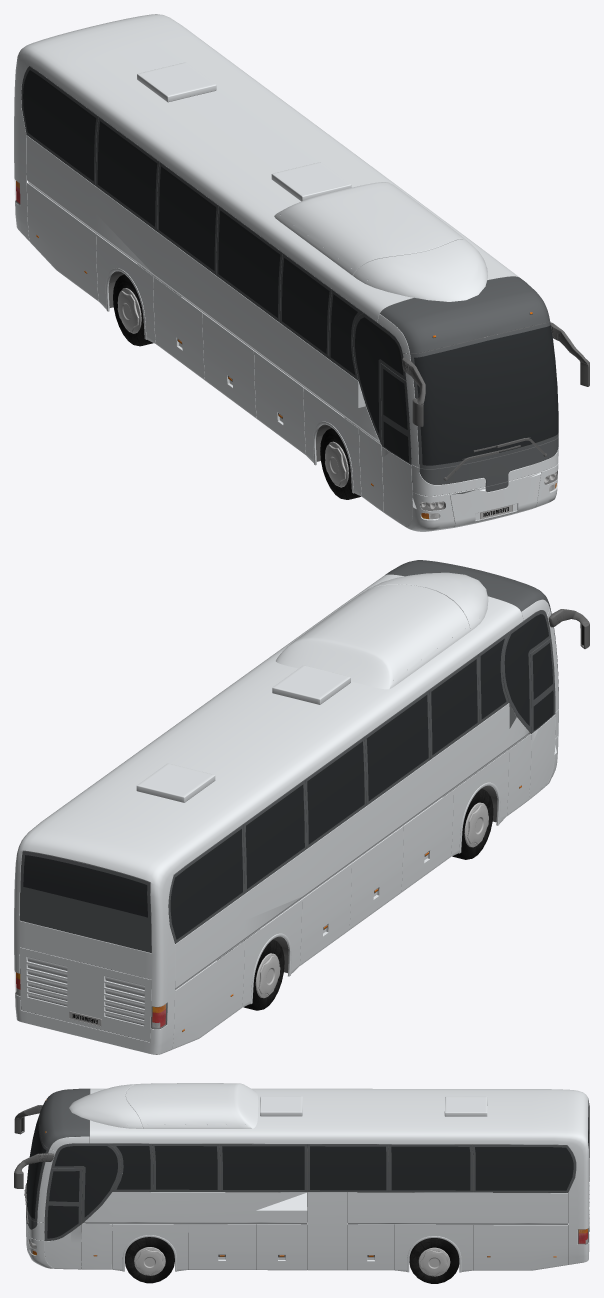
The model's file is vehicle-bus-1.gltf.
3 views of the same model, one above another, from view 1: azimuth 30°, elevation 25°; view 2: azimuth 150°, elevation 25°; view 3: azimuth 270°, elevation 25° (orthographic). The views are drawn at different scales.
Parts seen in each view (by area): view 1: 大巴车-mat_Archmodels55_15_carpaint, 大巴车-mat_Archmodels55_15_glass, 大巴车-Archmodels55_15_glass_black (×2), 大巴车-Archmodels55_15_black_plastic (×2), 大巴车-Archmodels55_15_tyre, 大巴车-mat_Archmodels55_15_rims; view 2: 大巴车-mat_Archmodels55_15_carpaint, 大巴车-mat_Archmodels55_15_glass, 大巴车-Archmodels55_15_glass_black, 大巴车-Archmodels55_15_tyre, 大巴车-mat_Archmodels55_15_rims, 大巴车-Archmodels55_15_black_plastic; view 3: 大巴车-mat_Archmodels55_15_carpaint, 大巴车-mat_Archmodels55_15_glass, 大巴车-Archmodels55_15_glass_black (×2), 大巴车-Archmodels55_15_tyre, 大巴车-mat_Archmodels55_15_rims, 大巴车-Archmodels55_15_black_plastic.
Boxes of the visible parts, bbox=[...] form: 大巴车-mat_Archmodels55_15_carpaint: bbox=[14, 14, 558, 531]; 大巴车-mat_Archmodels55_15_glass: bbox=[23, 70, 558, 465]; 大巴车-Archmodels55_15_glass_black (×2): bbox=[21, 66, 589, 491]; 大巴车-Archmodels55_15_black_plastic (×2): bbox=[16, 66, 562, 526]; 大巴车-Archmodels55_15_tyre: bbox=[113, 270, 360, 499]; 大巴车-mat_Archmodels55_15_rims: bbox=[117, 288, 348, 487]; 大巴车-mat_Archmodels55_15_carpaint: bbox=[14, 572, 558, 1054]; 大巴车-mat_Archmodels55_15_glass: bbox=[23, 614, 553, 939]; 大巴车-Archmodels55_15_glass_black: bbox=[20, 560, 558, 952]; 大巴车-Archmodels55_15_tyre: bbox=[217, 788, 493, 1010]; 大巴车-mat_Archmodels55_15_rims: bbox=[255, 802, 488, 998]; 大巴车-Archmodels55_15_black_plastic: bbox=[16, 574, 551, 1042]; 大巴车-mat_Archmodels55_15_carpaint: bbox=[26, 1083, 589, 1272]; 大巴车-mat_Archmodels55_15_glass: bbox=[26, 1104, 589, 1238]; 大巴车-Archmodels55_15_glass_black (×2): bbox=[14, 1088, 589, 1240]; 大巴车-Archmodels55_15_tyre: bbox=[125, 1237, 459, 1283]; 大巴车-mat_Archmodels55_15_rims: bbox=[134, 1247, 450, 1276]; 大巴车-Archmodels55_15_black_plastic: bbox=[31, 1090, 586, 1270].
Size of the model in its own units: 2.5 by 3.38 by 10.59.
22 materials, 7 textured.
